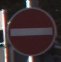No entry: (6, 6, 56, 57)
